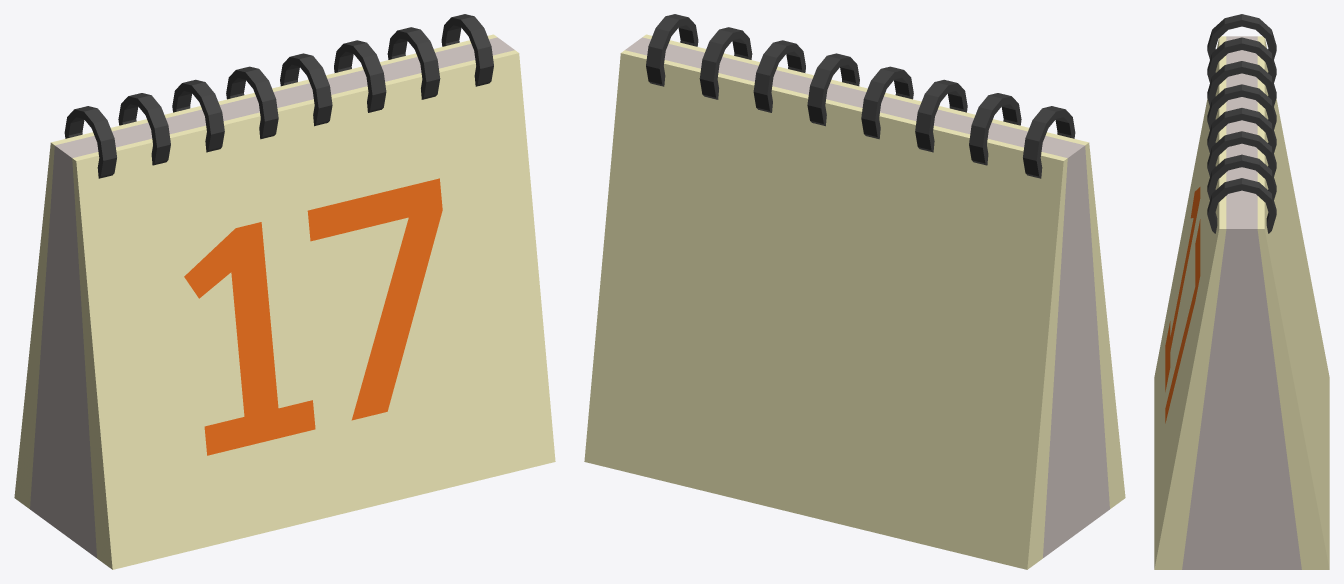
File: Calender.fbx
3 renders of one model, left to right at view 1: azimuth 30°, elevation 25°; view 2: azimuth 150°, elevation 25°; view 3: azimuth 270°, elevation 25°, orthographic. The views are drawn at different scales.
Parts seen in each view (by area): view 1: Plane.007; view 2: Plane.007; view 3: Plane.007.
Boxes of the visible parts, x1,y1,x2,y2 form: Plane.007: (14, 14, 555, 569); Plane.007: (584, 14, 1125, 569); Plane.007: (1154, 14, 1329, 569).
Bounding box in the file's own units: 55.14 × 49.65 × 21.19.
